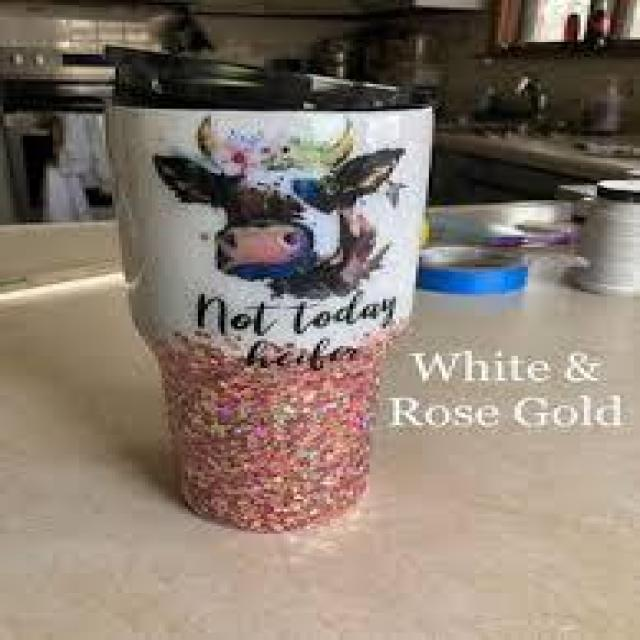bottle: (104, 55, 437, 532)
